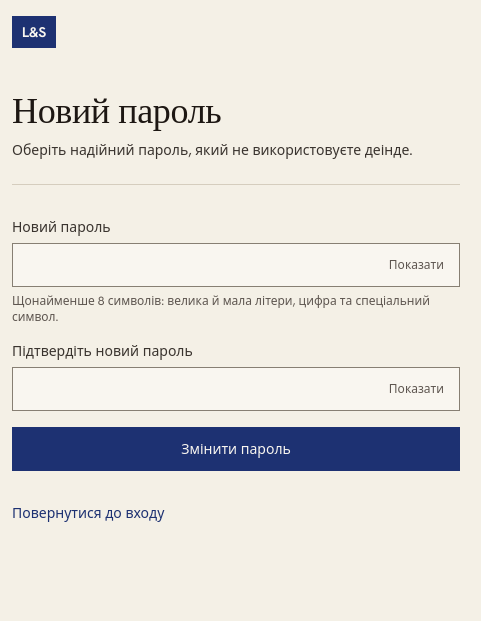
Scenario: ResetPasswordPage › shows an expired link as the server describes it
Type "BrandNew1!" into the password field labelled "Новий пароль". click: x=236, y=265
box: top-left (12, 243), bottom-right (460, 287)
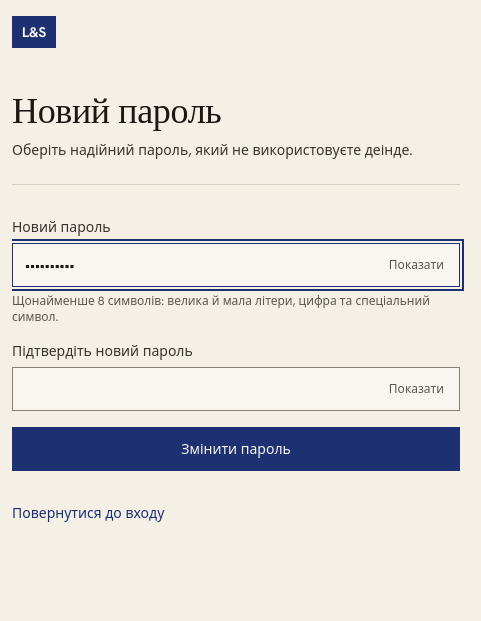
Type "BrandNew1!" into the password field labelled "Підтвердіть новий пароль". click: x=236, y=389
box: top-left (12, 367), bottom-right (460, 411)
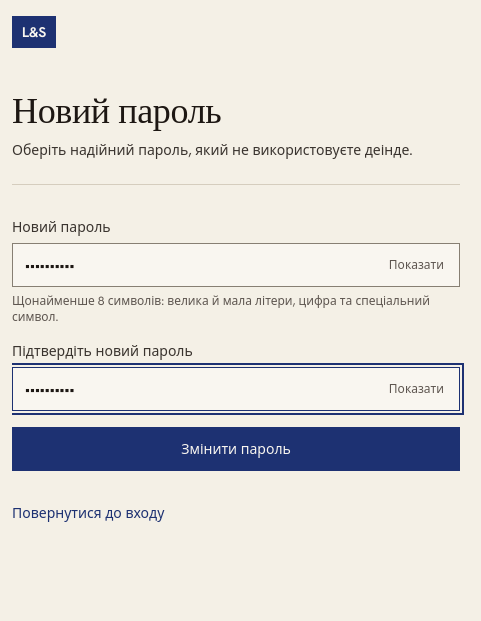
Click the button "Змінити пароль". click: x=236, y=449
box: top-left (12, 427), bottom-right (460, 471)
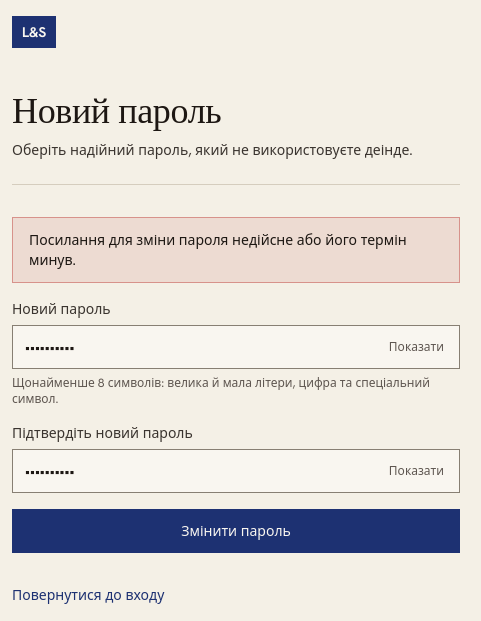
Expected: the text "Посилання для зміни пароля недійсне або його термін минув." is shown, top-left (12, 217), bottom-right (460, 283)
